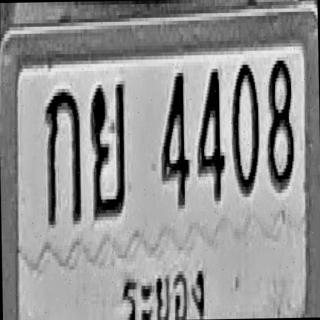A01: (44, 86, 81, 226)
A34: (89, 80, 126, 217)
N00: (230, 61, 259, 194)
N04: (159, 69, 190, 205), (196, 65, 225, 201)
N08: (266, 57, 293, 190)
P53: (118, 252, 211, 320)
